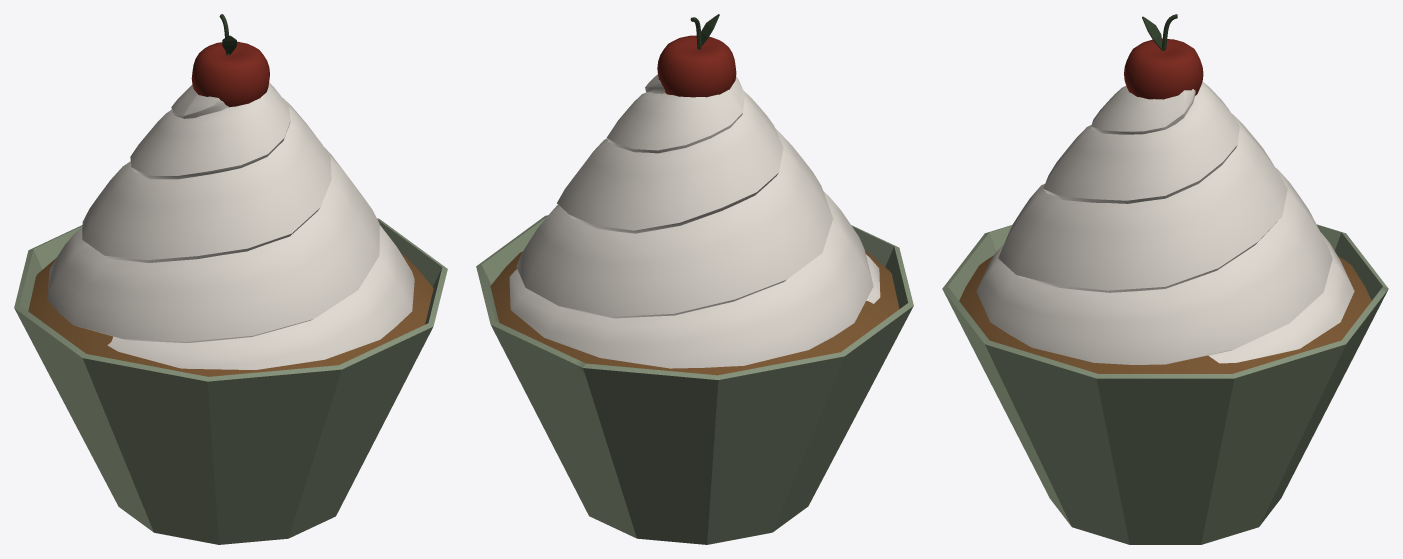
Rendered from babeczka.fbx.
The picture shows the model from 3 angles, left to right: view 1: azimuth 30°, elevation 25°; view 2: azimuth 150°, elevation 25°; view 3: azimuth 270°, elevation 25°; orthographic projection.
Parts seen in each view (by area): view 1: BézierCurve.002; view 2: BézierCurve.002; view 3: BézierCurve.002.
Part boxes in pixels (x1,y1,x2,y2): BézierCurve.002: [14, 14, 447, 544]; BézierCurve.002: [476, 14, 913, 544]; BézierCurve.002: [942, 14, 1388, 544].
Size of the model in its own units: 71.07 by 67.6 by 84.77.
